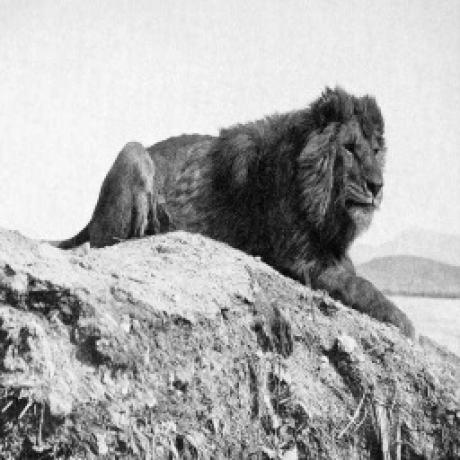Lion: (56, 80, 417, 339)
